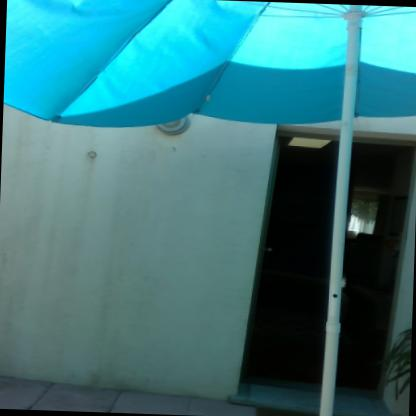open: (240, 115, 415, 413)
